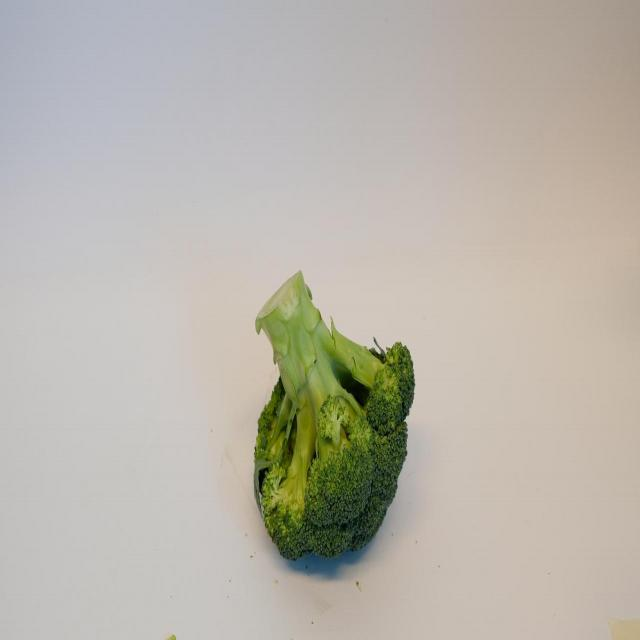broccoli: (244, 247, 415, 567)
